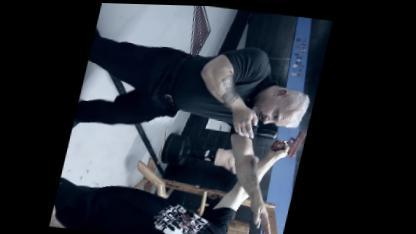pistol: (272, 124, 312, 158)
